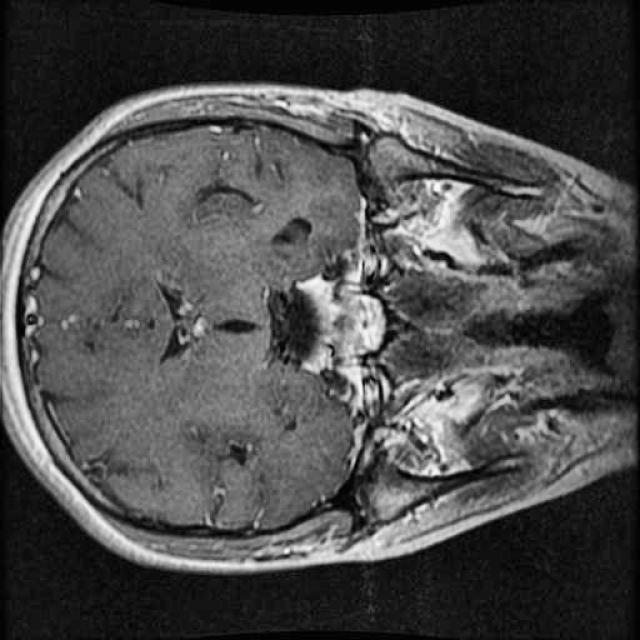Tumor: (299, 280, 340, 375)
